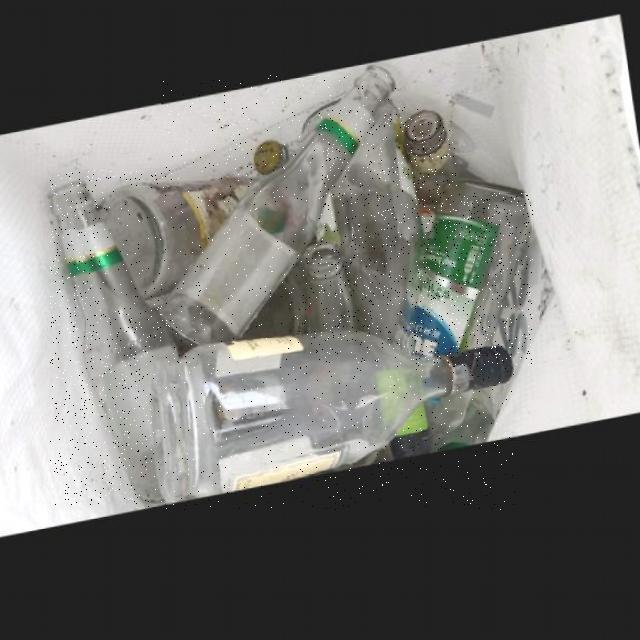glass: (162, 75, 400, 350), (153, 338, 515, 510), (51, 170, 178, 506), (319, 107, 423, 364), (415, 193, 533, 367), (100, 181, 258, 307), (408, 120, 457, 242), (304, 248, 365, 340)
